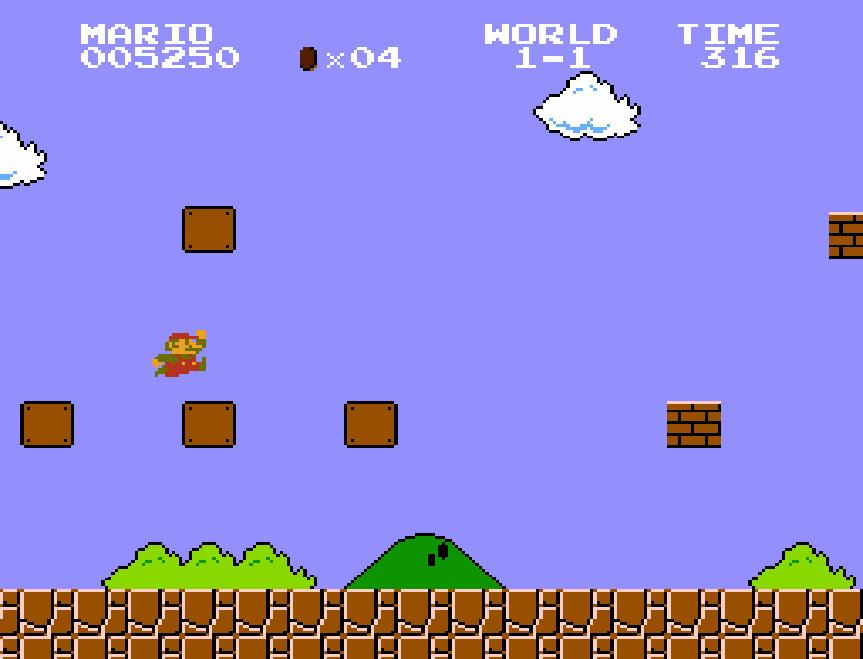little_mario: (148, 328, 206, 378)
